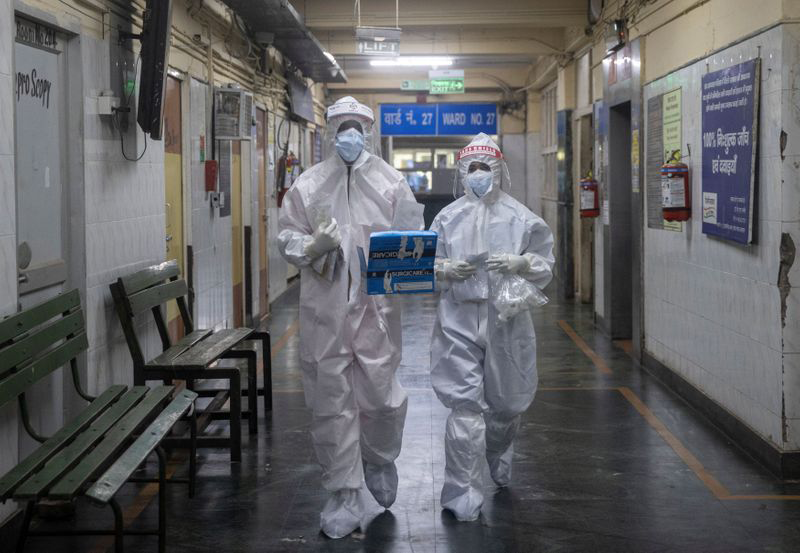Coverall: (276, 96, 427, 531), (428, 140, 558, 519)
Gloves: (303, 220, 346, 261), (487, 250, 530, 280)
with_mask: (332, 119, 366, 162), (463, 160, 495, 201)
